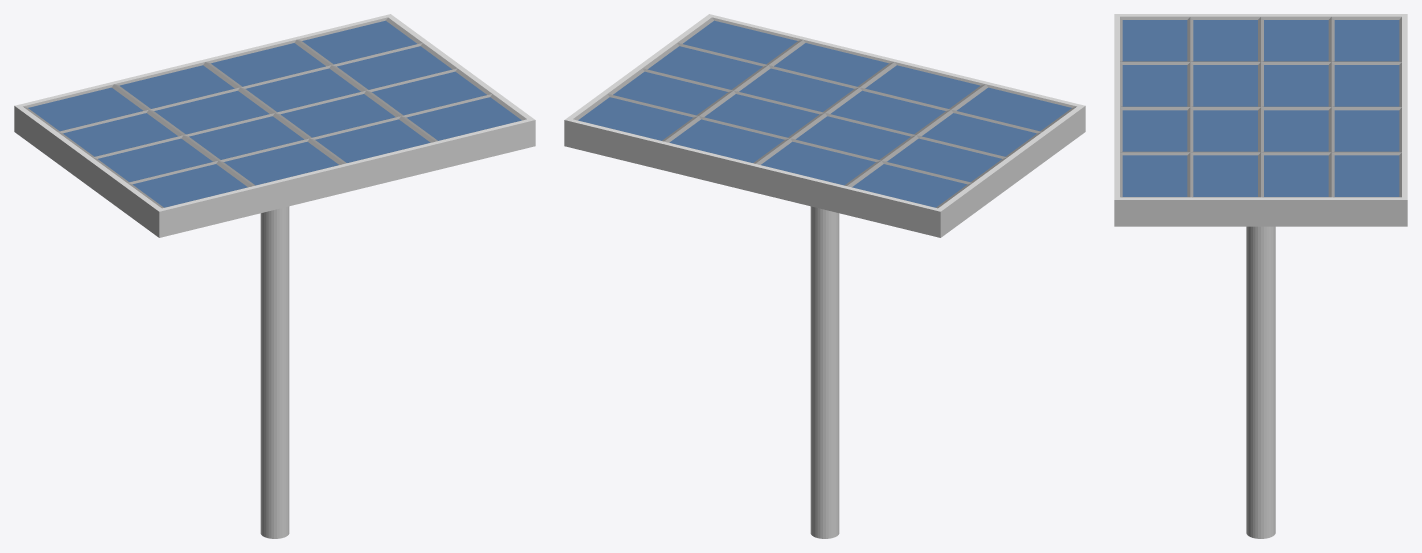
The model's file is solar panel.fbx.
The picture shows the model from 3 angles, left to right: view 1: azimuth 30°, elevation 25°; view 2: azimuth 150°, elevation 25°; view 3: azimuth 270°, elevation 25°; orthographic projection.
Parts seen in each view (by area): view 1: Cube, Cylinder; view 2: Cube, Cylinder; view 3: Cube, Cylinder.
Part boxes in pixels (x1,y1,x2,y2): Cube: (14, 14, 535, 237); Cylinder: (260, 206, 289, 538); Cube: (564, 14, 1085, 237); Cylinder: (810, 206, 839, 538); Cube: (1114, 14, 1407, 226); Cylinder: (1246, 226, 1275, 538).
Size of the model in its own units: 300 by 320 by 200.
